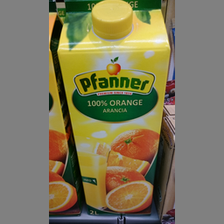juice: (57, 1, 170, 216)
